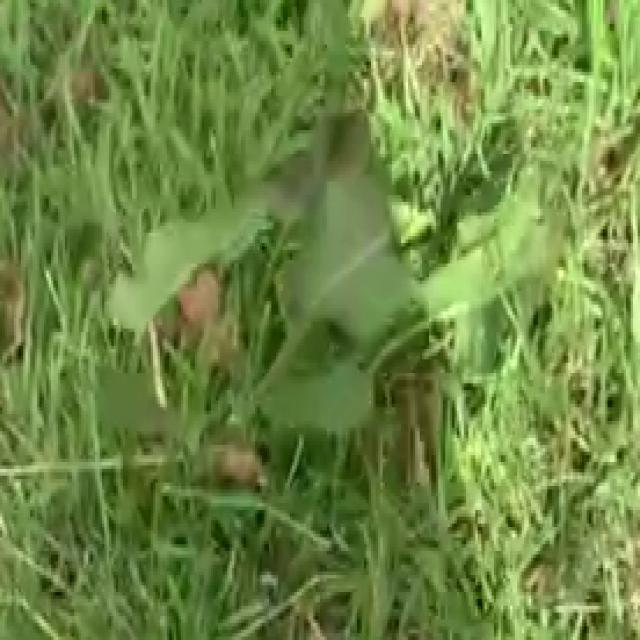organic waste: (76, 75, 545, 565)
